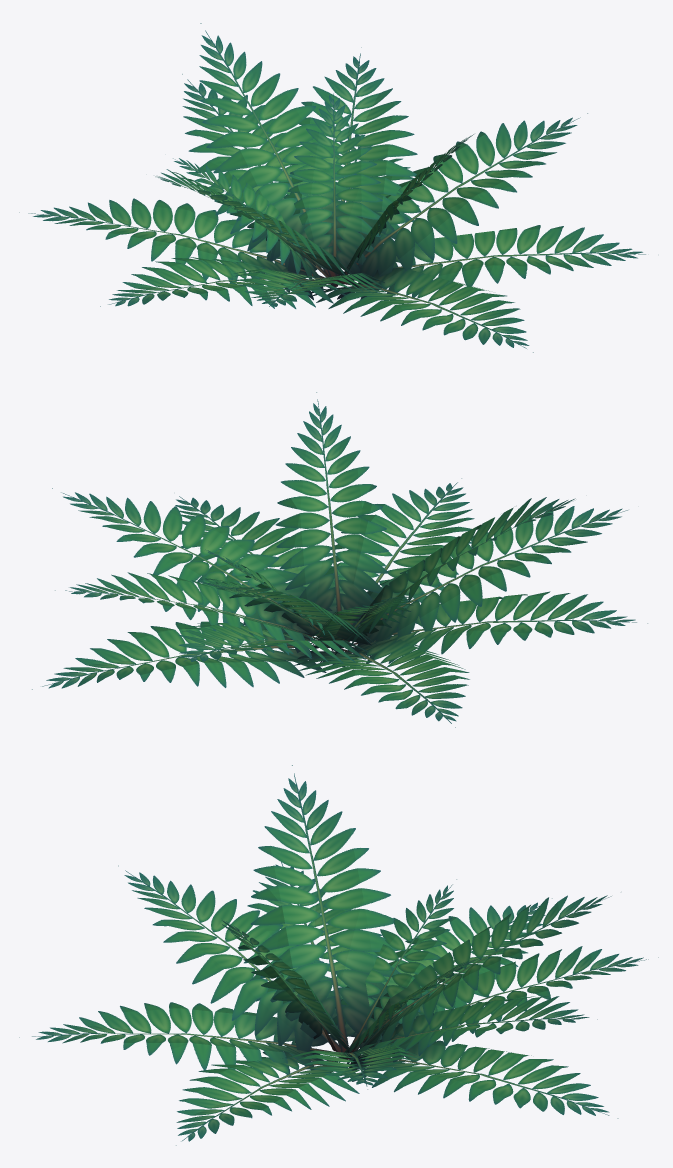
Rendered from VEG0410001.fbx.
3 renders of one model, top to bottom at view 1: azimuth 30°, elevation 25°; view 2: azimuth 150°, elevation 25°; view 3: azimuth 270°, elevation 25°, orthographic. The views are drawn at different scales.
Parts seen in each view (by area): view 1: smVEG0410001; view 2: smVEG0410001; view 3: smVEG0410001.
Part boxes in pixels (box(x1,y1,x2,y2)): smVEG0410001: box(19, 23, 645, 352); smVEG0410001: box(32, 392, 647, 727); smVEG0410001: box(19, 765, 658, 1145).
Size of the model in its own units: 280 by 91.98 by 282.
1 material, 1 textured.
